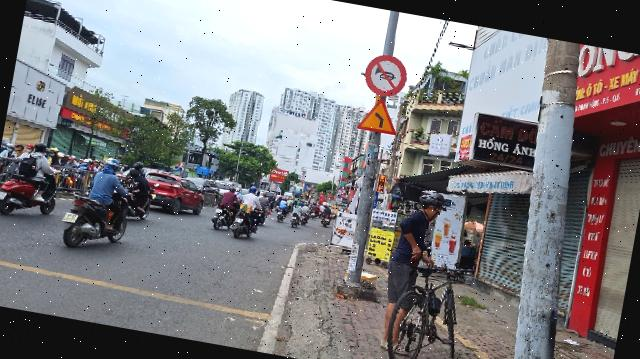cam-bop-coi: (362, 51, 410, 99)
cho-ngoat-nguy-hiem-ben-trai: (357, 93, 403, 135)
